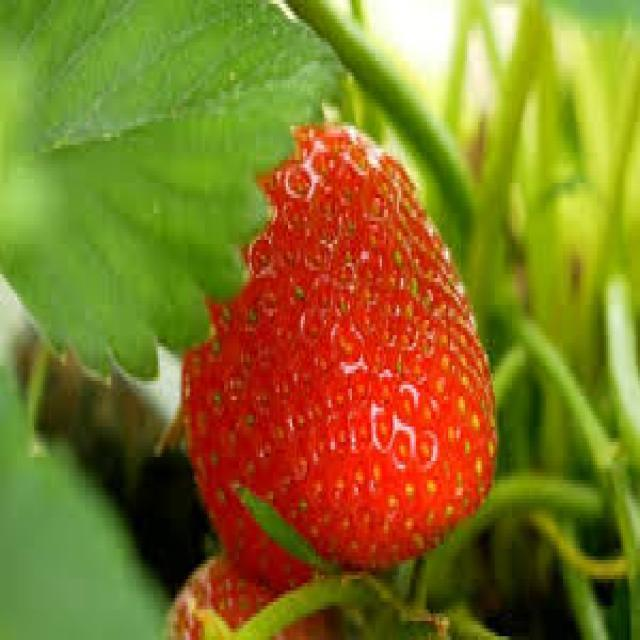Strawberry: (185, 120, 498, 574), (162, 554, 342, 640)
